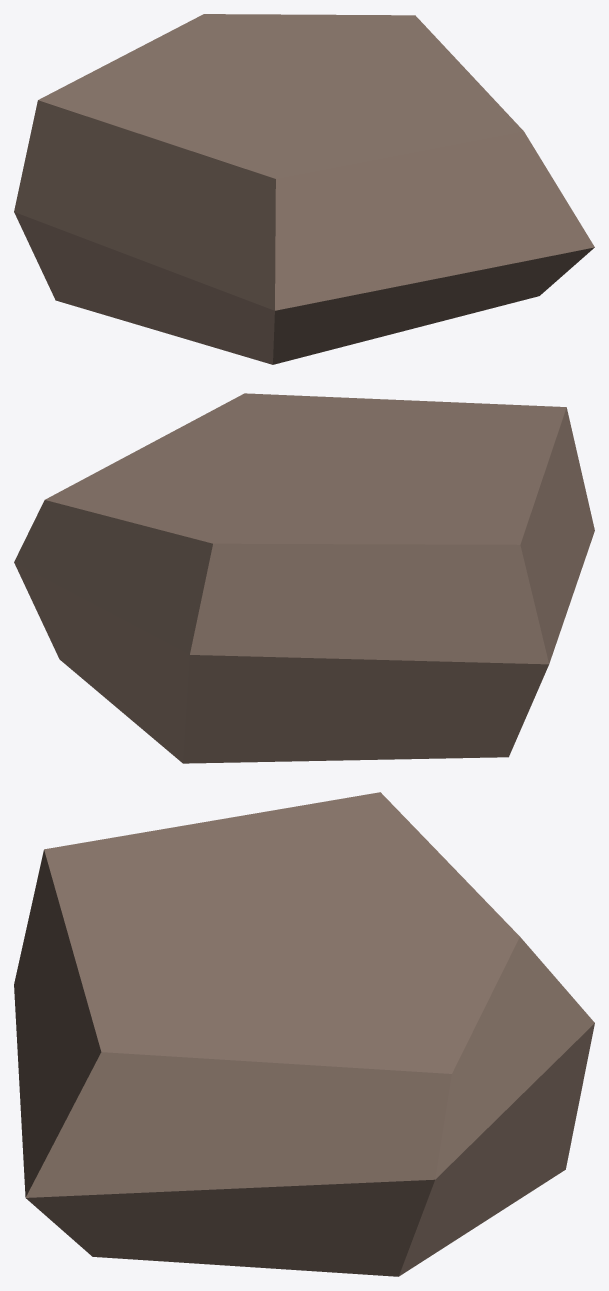
The model's file is TB_Env_Stone5_D.FBX.
3 renders of one model, top to bottom at view 1: azimuth 30°, elevation 25°; view 2: azimuth 150°, elevation 25°; view 3: azimuth 270°, elevation 25°, orthographic. The views are drawn at different scales.
Parts seen in each view (by area): view 1: TB_Env_Stone5_D; view 2: TB_Env_Stone5_D; view 3: TB_Env_Stone5_D.
Part boxes in pixels (x1,y1,x2,y2): TB_Env_Stone5_D: [14, 14, 594, 364]; TB_Env_Stone5_D: [14, 393, 594, 763]; TB_Env_Stone5_D: [14, 792, 594, 1276].
Size of the model in its own units: 0.3812 by 0.1567 by 0.342.
